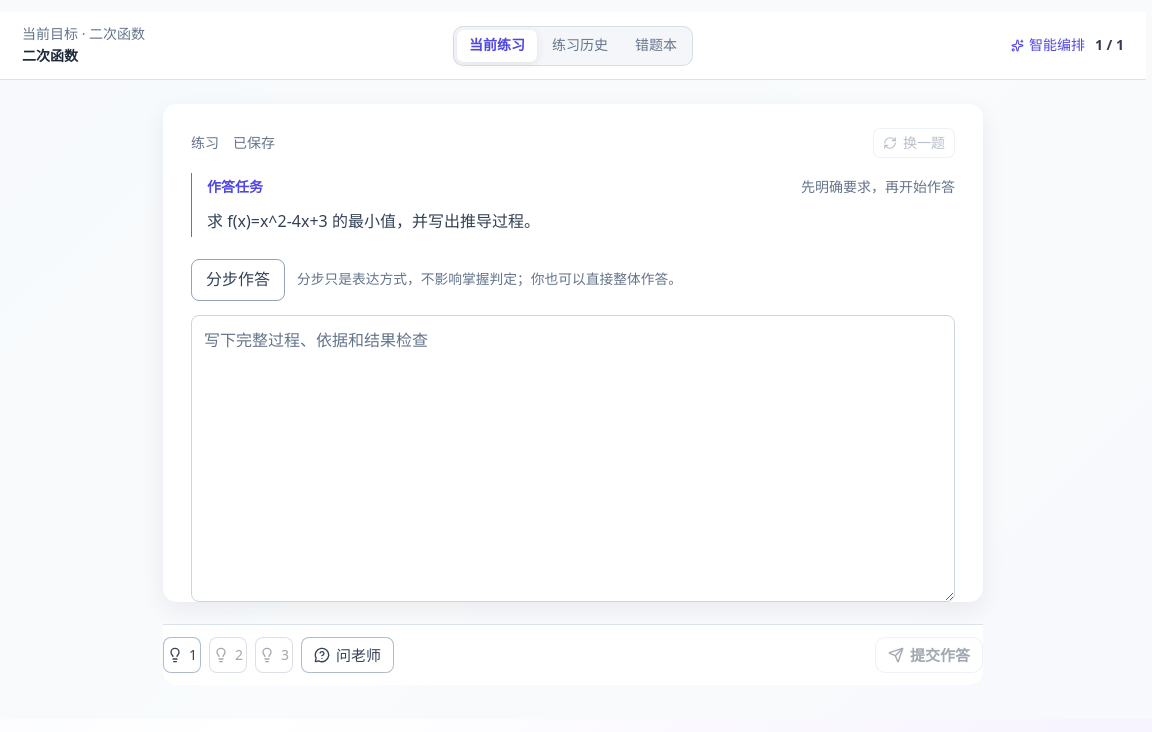
Test: PracticeWorkspace 逐步判定展示 (J3) › 没有出错步骤时明确说没有，而不是留空
In the text box with class "answer-editor": point(573, 459) [191, 315, 955, 602], type "先配方，再读顶点"
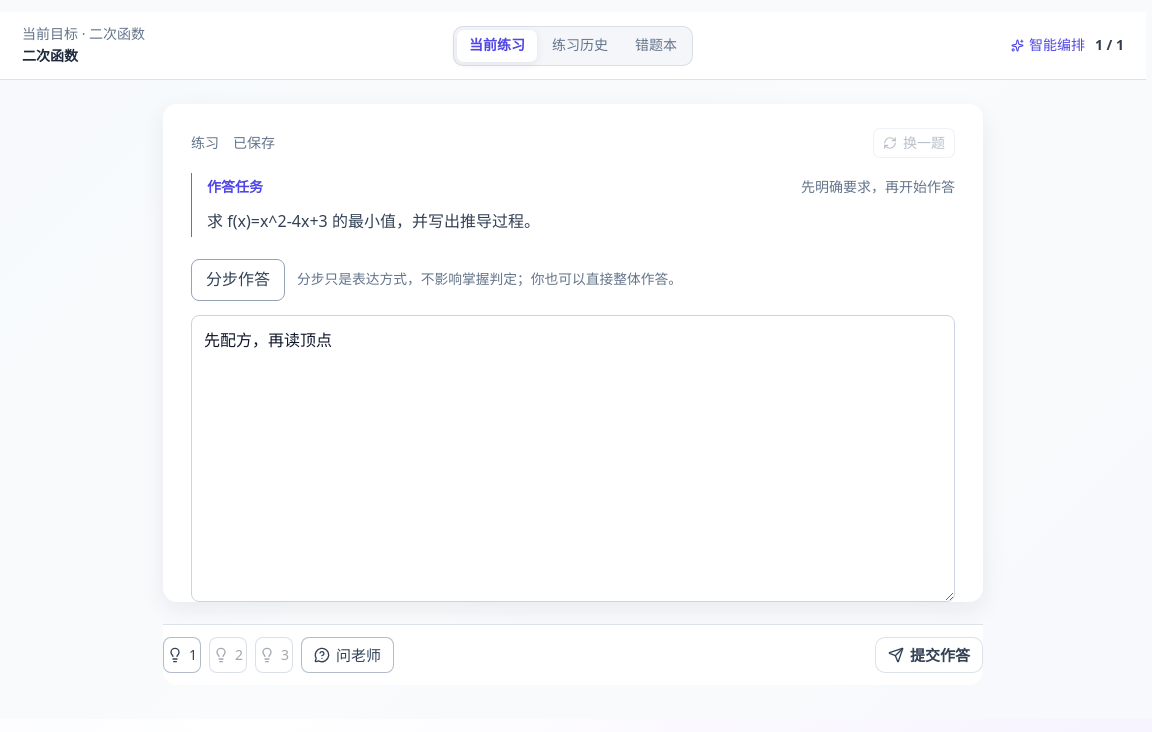
Click the button "提交作答": point(929, 656) [875, 638, 983, 674]
(page scrolled)
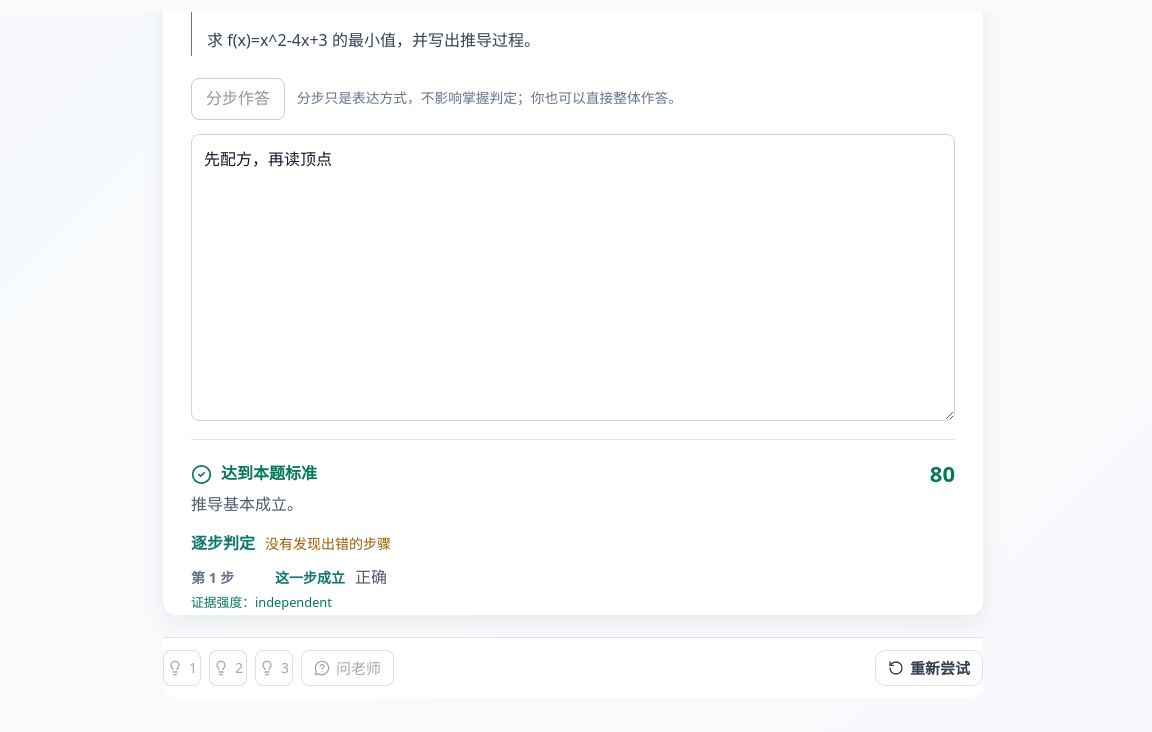
Expected: the element with test id "stepwise-judgement" shows "没有发现出错的步骤", [265, 534, 391, 553]
